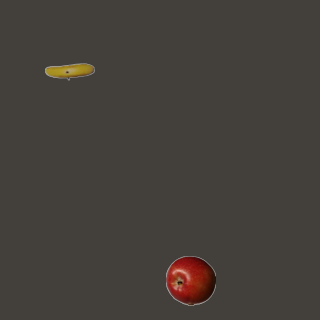Apple Braeburn: (165, 255, 215, 305)
Banana: (44, 46, 94, 96)
